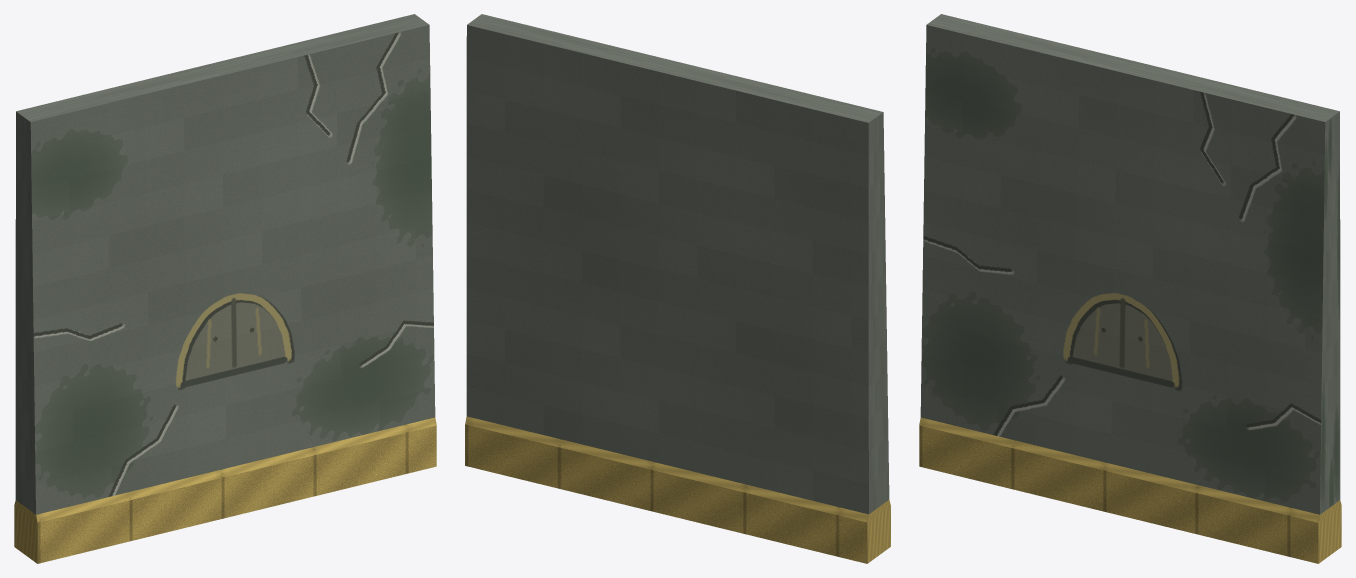
The model's file is Door1_toranee.fbx.
3 renders of one model, left to right at view 1: azimuth 30°, elevation 25°; view 2: azimuth 150°, elevation 25°; view 3: azimuth 330°, elevation 25°, orthographic.
Parts seen in each view (by area): view 1: SM_Door_Leaf_SlideDown, SM_Door_Threshold_Fixed; view 2: SM_Door_Leaf_SlideDown, SM_Door_Threshold_Fixed; view 3: SM_Door_Leaf_SlideDown, SM_Door_Threshold_Fixed.
Part boxes in pixels (box(x1,y1,x2,y2)): SM_Door_Leaf_SlideDown: box(15, 14, 435, 514); SM_Door_Threshold_Fixed: box(14, 417, 436, 563); SM_Door_Leaf_SlideDown: box(466, 14, 889, 514); SM_Door_Threshold_Fixed: box(465, 416, 890, 563); SM_Door_Leaf_SlideDown: box(920, 14, 1340, 514); SM_Door_Threshold_Fixed: box(919, 417, 1341, 563).
Size of the model in its own units: 35.6 by 37.2 by 3.6.
4 materials, 4 textured.
